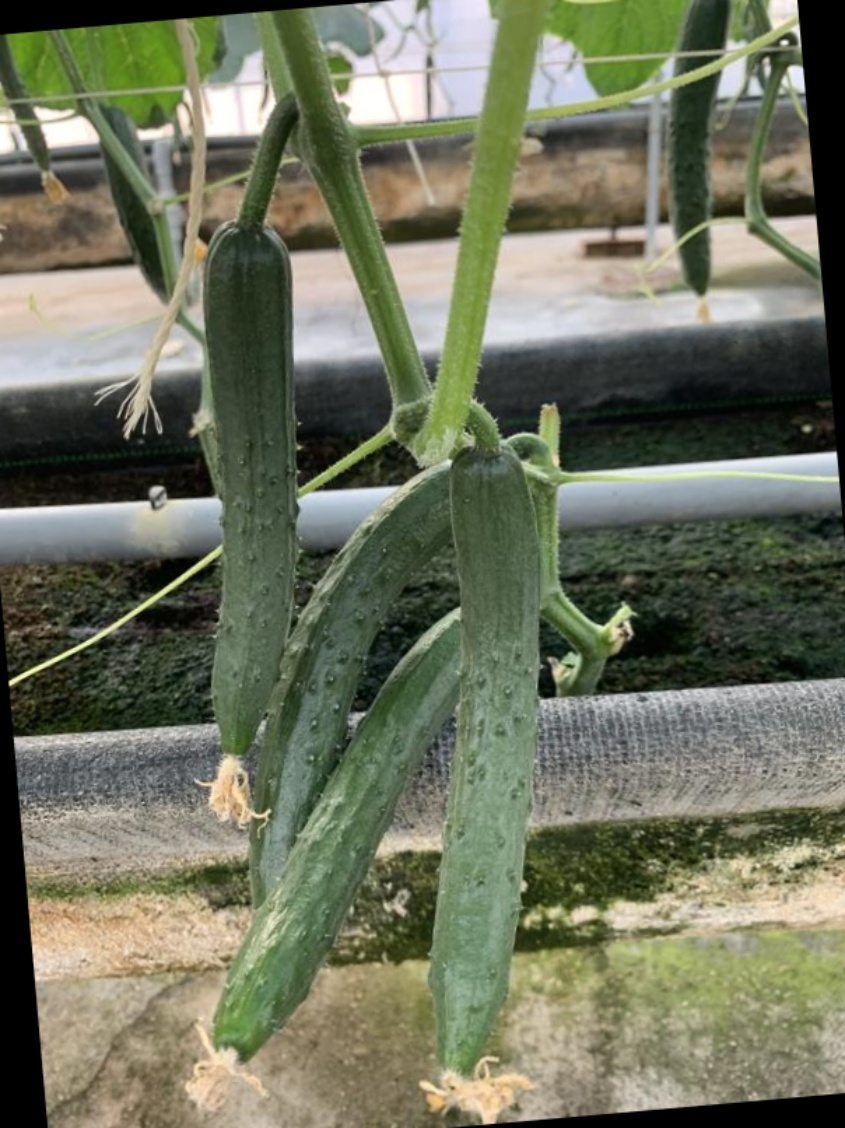mature: (204, 598, 463, 1061), (418, 433, 548, 1087)
